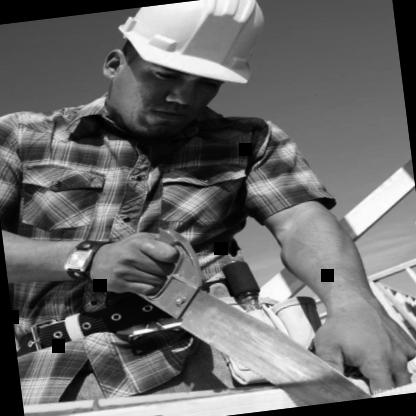helmet: (79, 0, 294, 149)
